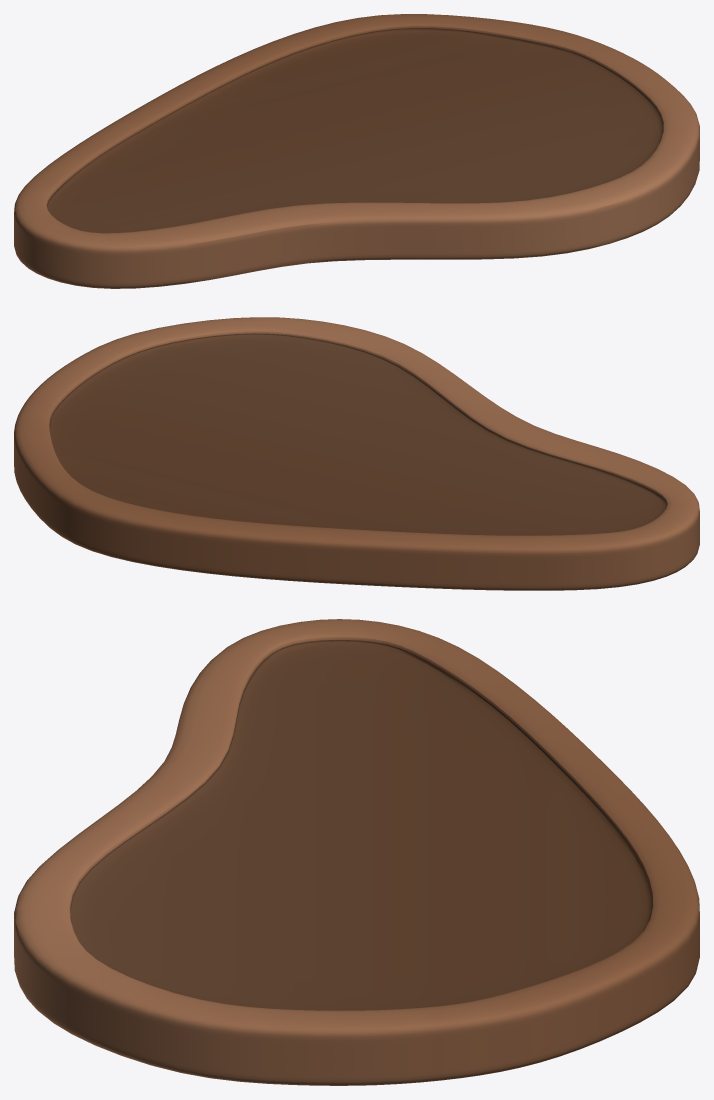
The model's file is HH_CookedSteak.fbx.
The picture shows the model from 3 angles, top to bottom: view 1: azimuth 30°, elevation 25°; view 2: azimuth 150°, elevation 25°; view 3: azimuth 270°, elevation 25°; orthographic projection. The views are drawn at different scales.
Visible parts, largest first — view 1: Top, Bottom; view 2: Top, Bottom; view 3: Top, Bottom.
Part boxes in pixels (x1,y1,x2,y2): Top: (14,14,699,269); Bottom: (14,147,699,288); Top: (14,317,699,571); Bottom: (14,452,699,590); Top: (14,619,699,1059); Bottom: (14,936,699,1085).
Size of the model in its own units: 100 by 6.95 by 70.
1 material, 1 textured.
